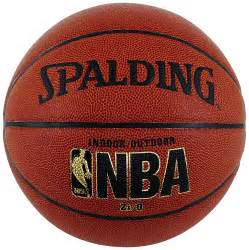basketball: (2, 1, 247, 247)
